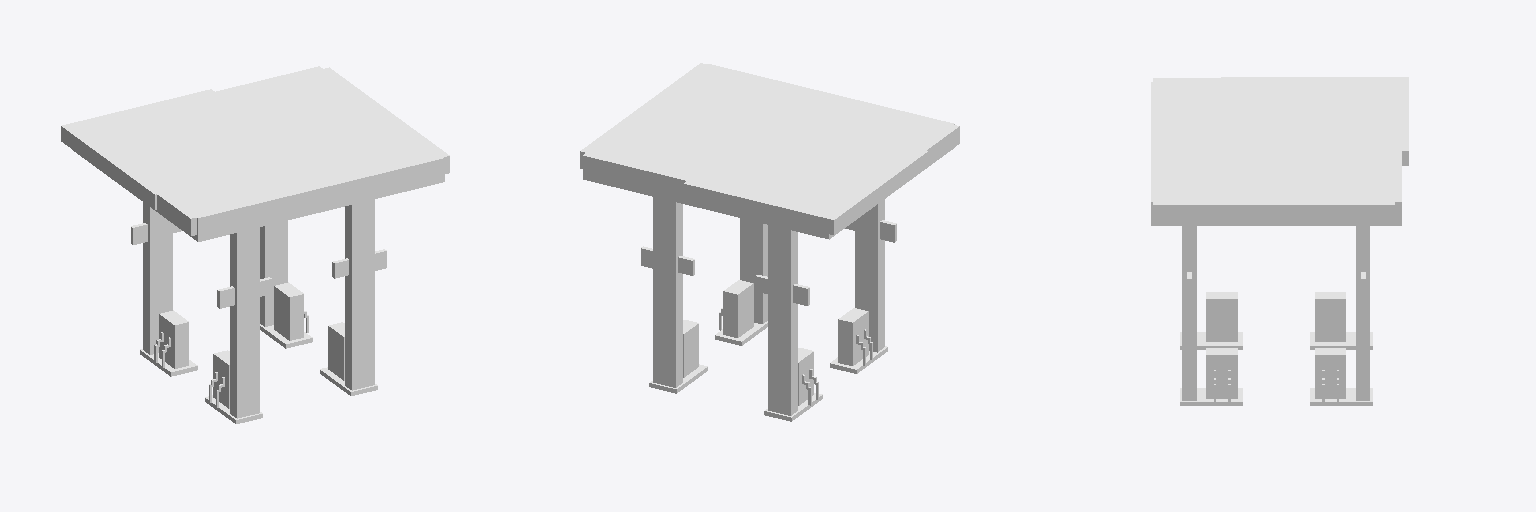
The model's file is GasStation1.obj.
The picture shows the model from 3 angles: view 1: azimuth 30°, elevation 25°; view 2: azimuth 150°, elevation 25°; view 3: azimuth 270°, elevation 25°; orthographic projection.
Parts seen in each view (by area): view 1: GasStation1; view 2: GasStation1; view 3: GasStation1.
Boxes of the visible parts, x1,y1,x2,y2 form: GasStation1: [61, 66, 449, 423]; GasStation1: [580, 63, 959, 421]; GasStation1: [1151, 77, 1408, 405].
Bounding box in the file's own units: 125 × 105 × 107.